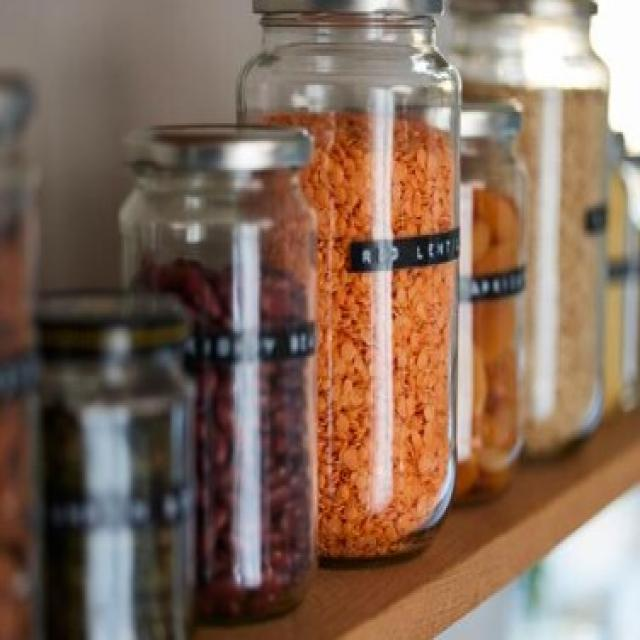electronic: (226, 0, 458, 571), (118, 125, 321, 632)
